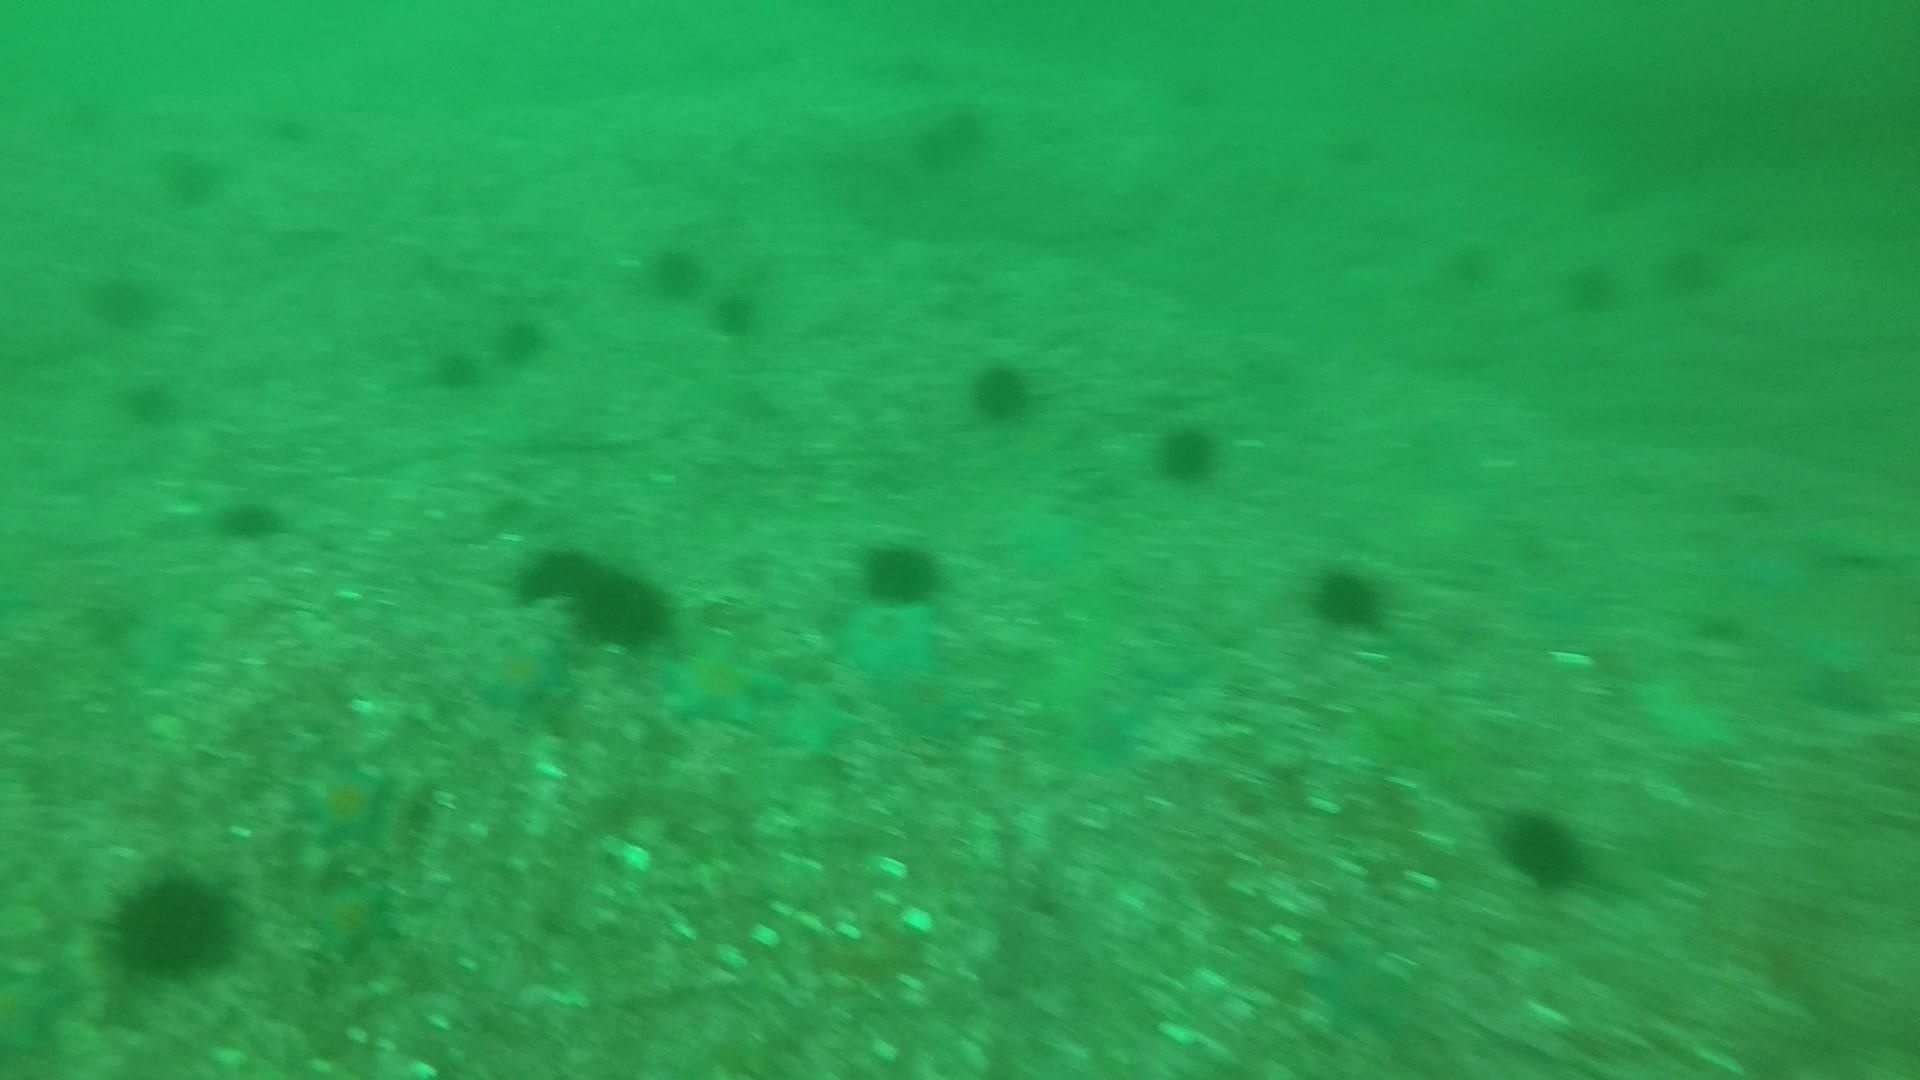echinus: (102, 862, 241, 982), (564, 562, 676, 659), (1494, 803, 1594, 894), (512, 541, 613, 611), (855, 533, 945, 611), (1305, 558, 1394, 636), (899, 98, 988, 175), (963, 353, 1040, 427), (82, 264, 164, 332), (1149, 415, 1226, 487), (156, 142, 227, 208), (641, 237, 709, 303), (1658, 237, 1727, 299), (212, 491, 287, 546), (1557, 255, 1623, 316), (882, 40, 956, 94), (1323, 129, 1396, 183), (116, 375, 185, 433), (491, 309, 553, 369), (1439, 233, 1501, 291), (425, 342, 485, 396), (708, 286, 764, 340), (262, 111, 315, 145)
starfish: (1300, 928, 1424, 1042), (654, 634, 793, 735), (1623, 665, 1747, 764), (289, 753, 400, 851), (831, 599, 948, 688), (868, 663, 989, 746), (299, 872, 401, 965), (471, 630, 576, 717), (757, 678, 866, 760), (113, 600, 208, 686), (1, 957, 74, 1068), (993, 497, 1096, 575), (1120, 636, 1215, 694)
